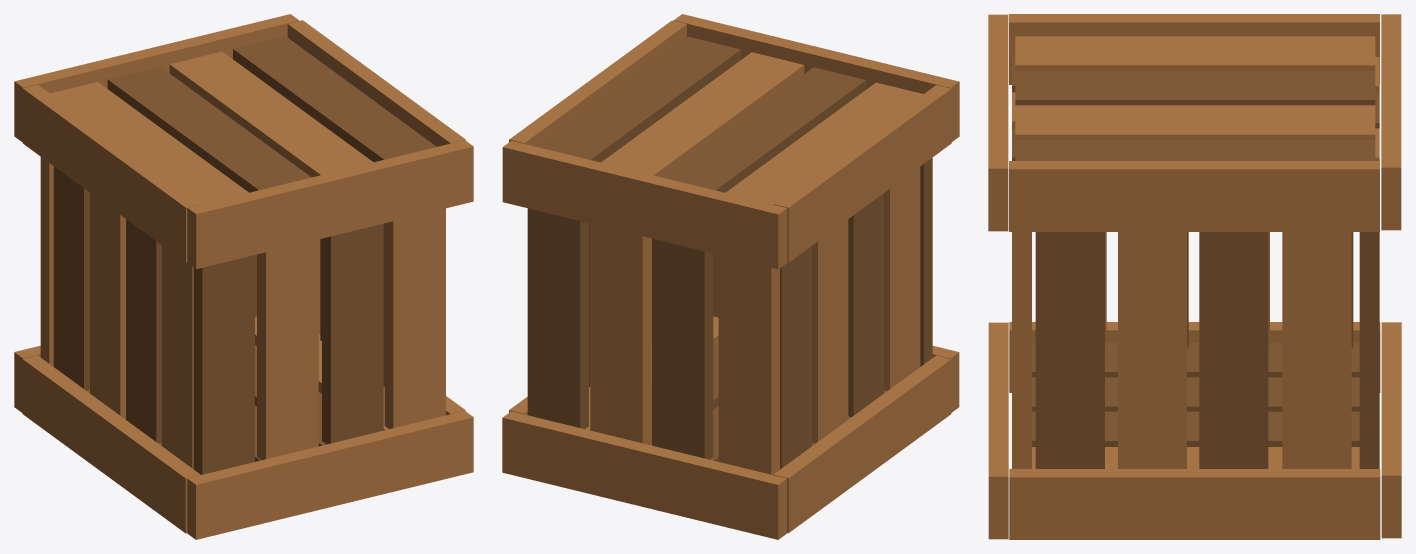
Rendered from Low Poly Crate Place Holder.fbx.
3 views of the same model, side by side, from view 1: azimuth 30°, elevation 25°; view 2: azimuth 150°, elevation 25°; view 3: azimuth 270°, elevation 25° (orthographic). The views are drawn at different scales.
Parts seen in each view (by area): view 1: Cube.016; view 2: Cube.016; view 3: Cube.016.
Part boxes in pixels (x1=…): Cube.016: x1=14, y1=14, x2=473, y2=539; Cube.016: x1=502, y1=14, x2=959, y2=539; Cube.016: x1=988, y1=14, x2=1401, y2=539.
Bounding box in the file's own units: 155 × 172 × 174.
